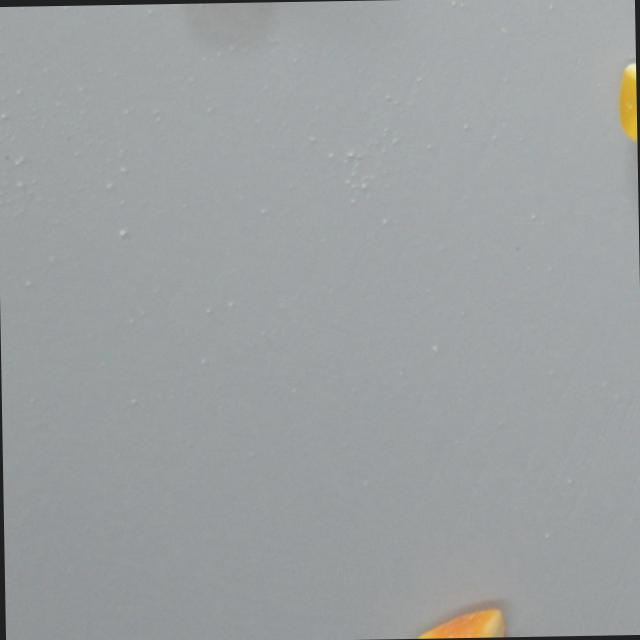no_canjicado: (616, 55, 637, 146)
